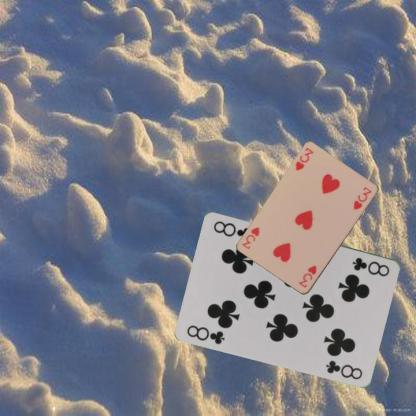3h: (296, 263, 318, 289), (293, 145, 314, 172)
8c: (184, 322, 226, 345), (350, 254, 391, 277)
